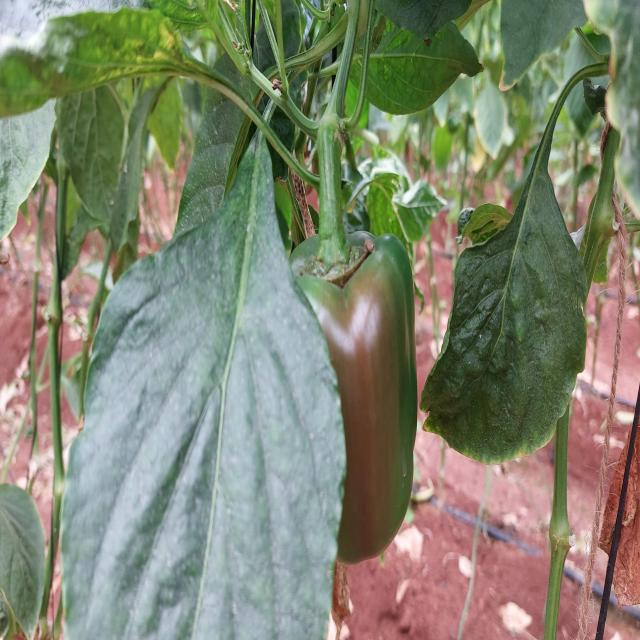BrownishRed--Can-be-Harvested: (266, 209, 422, 568)
